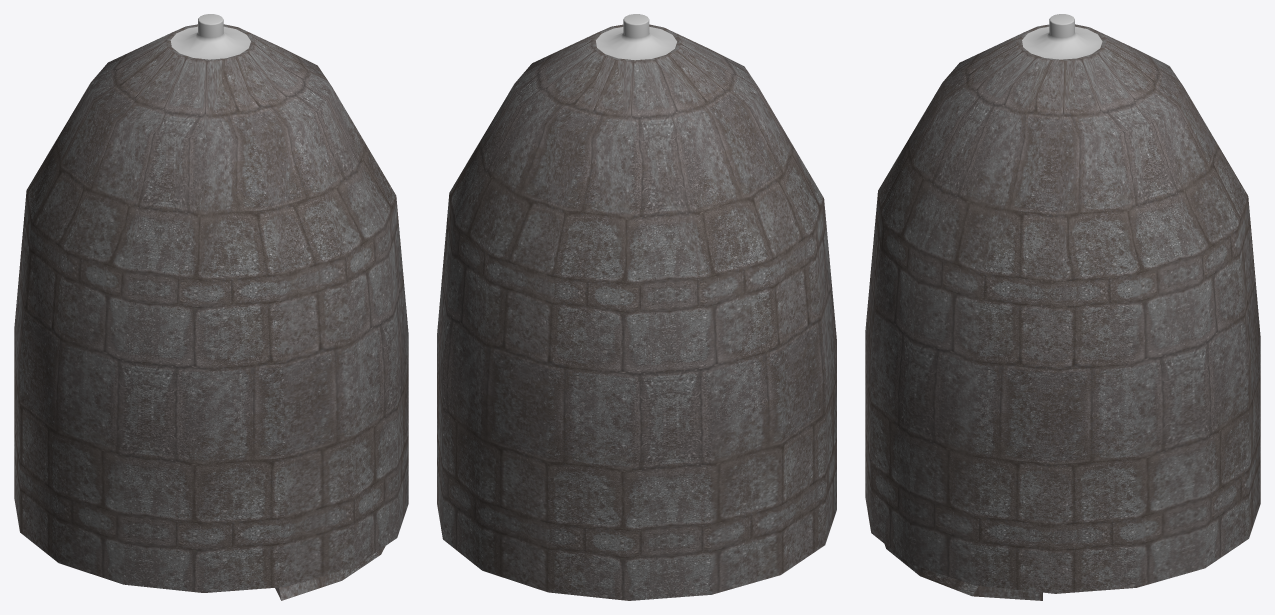
The model's file is Spiral Staircase Cap.fbx.
3 views of the same model, side by side, from view 1: azimuth 30°, elevation 25°; view 2: azimuth 150°, elevation 25°; view 3: azimuth 270°, elevation 25° (orthographic).
Parts seen in each view (by area): view 1: Cylinder_001; view 2: Cylinder_001; view 3: Cylinder_001.
Boxes of the visible parts, x1,y1,x2,y2 form: Cylinder_001: (14, 14, 408, 600); Cylinder_001: (437, 14, 836, 600); Cylinder_001: (865, 14, 1260, 600).
Bounding box in the file's own units: 507 × 721 × 507.
